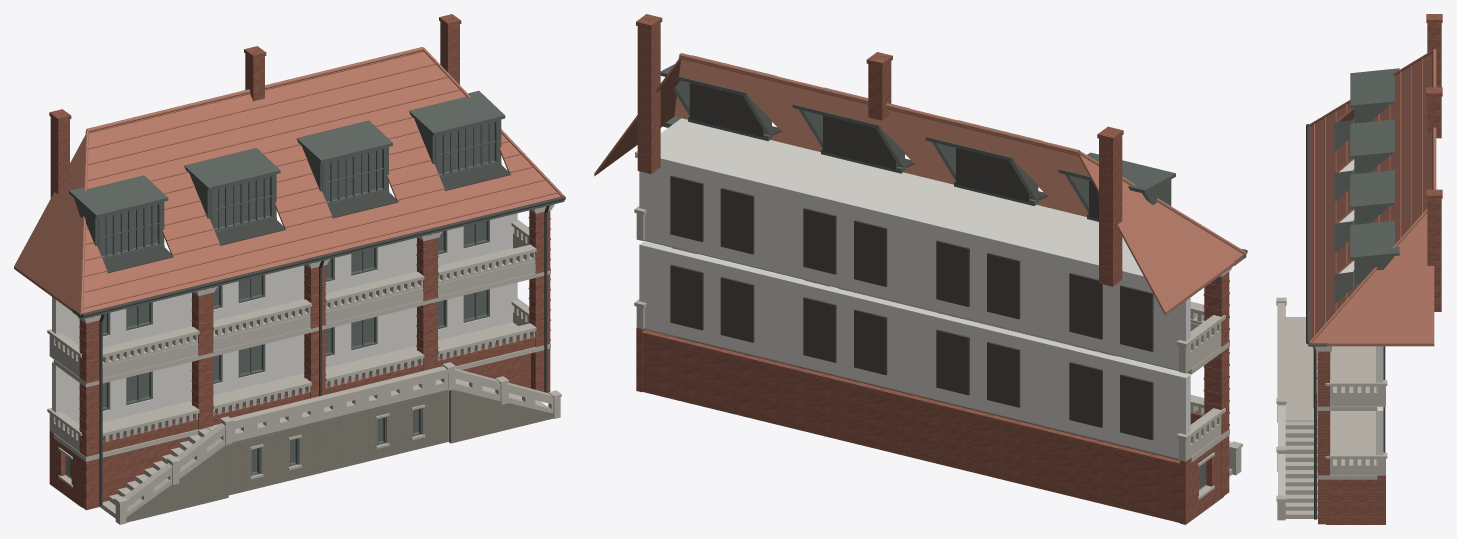
The model's file is changning-xinhuacun-11-garden-front-lod.glb.
3 renders of one model, left to right at view 1: azimuth 30°, elevation 25°; view 2: azimuth 150°, elevation 25°; view 3: azimuth 270°, elevation 25°, orthographic. The views are drawn at different scales.
Visible parts, largest first — view 1: 新华村11号楼四跨院廊与坡屋面; view 2: 新华村11号楼四跨院廊与坡屋面; view 3: 新华村11号楼四跨院廊与坡屋面.
Boxes of the visible parts, x1=… form: 新华村11号楼四跨院廊与坡屋面: x1=14, y1=14, x2=565, y2=524; 新华村11号楼四跨院廊与坡屋面: x1=594, y1=14, x2=1247, y2=524; 新华村11号楼四跨院廊与坡屋面: x1=1276, y1=14, x2=1442, y2=524.
Size of the model in its own units: 21.57 by 15.22 by 6.94.
Materials: 9 (2 with a texture image).
